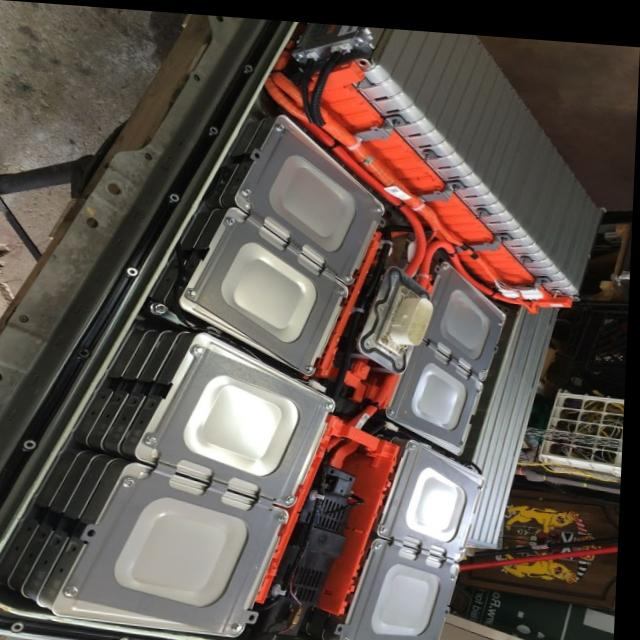Bolt: (112, 468, 154, 495), (373, 514, 401, 551), (59, 577, 97, 603), (338, 264, 362, 302), (318, 389, 350, 416), (138, 429, 172, 452), (225, 613, 258, 636), (147, 291, 175, 318), (401, 431, 433, 454), (271, 503, 298, 529), (219, 208, 247, 233), (477, 465, 500, 489), (182, 276, 204, 301), (188, 336, 214, 357), (269, 111, 294, 132), (299, 353, 322, 374), (236, 180, 261, 196), (337, 625, 360, 640), (435, 626, 453, 640)
Bus-bar: (257, 414, 385, 595), (330, 419, 409, 611), (322, 224, 388, 371)
Cable: (284, 104, 537, 304), (354, 369, 406, 420)
Nut: (90, 345, 331, 626), (384, 31, 607, 279), (209, 130, 374, 359), (359, 445, 492, 640), (401, 265, 502, 431), (471, 192, 504, 219), (444, 168, 474, 195), (385, 104, 417, 128), (414, 138, 440, 164), (491, 218, 519, 241), (519, 240, 542, 265), (534, 265, 561, 281)
